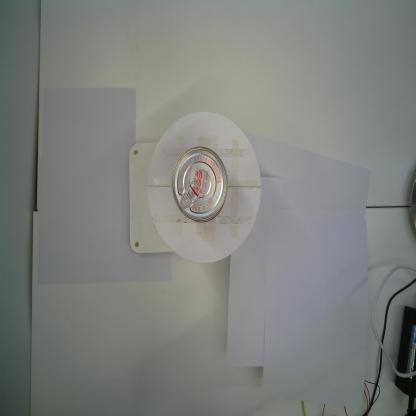Canned Food: (171, 144, 229, 224)
